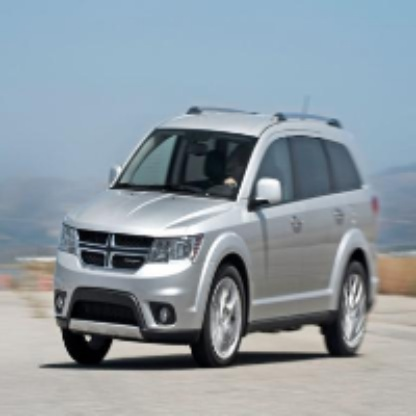Vehicle: (52, 108, 385, 363)
